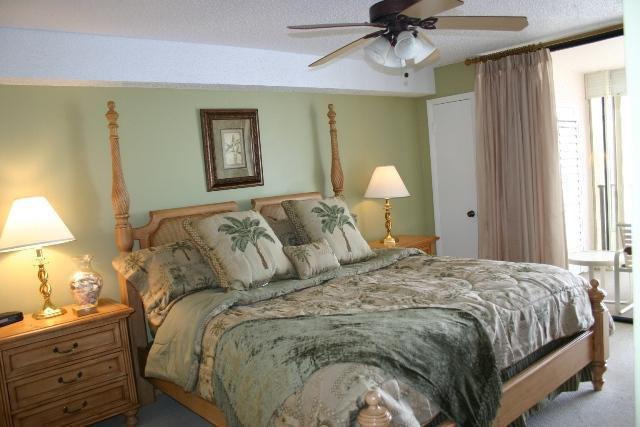Cama: (160, 218, 609, 426)
Puerta: (435, 104, 478, 255)
